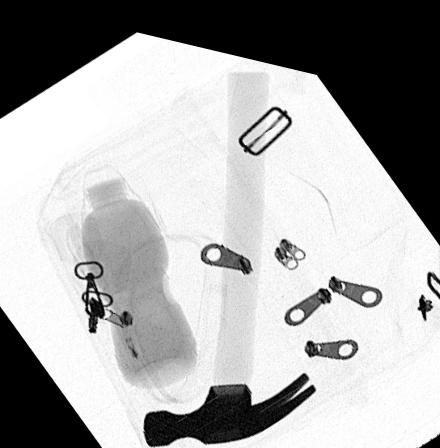Hammer: (143, 61, 315, 439)
